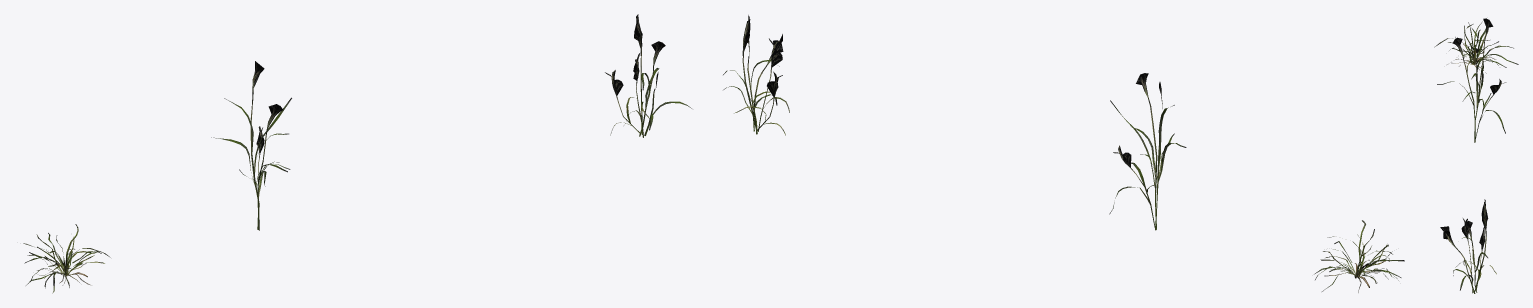
File: river-grass.glb
3 renders of one model, left to right at view 1: azimuth 30°, elevation 25°; view 2: azimuth 150°, elevation 25°; view 3: azimuth 270°, elevation 25°, orthographic. The views are drawn at different scales.
Visible parts, largest first — view 1: grass_medium_01_tall_c_LOD0, grass_medium_01_tall_a_LOD0, grass_medium_01_small_b_LOD0; view 2: grass_medium_01_tall_a_LOD0, grass_medium_01_tall_c_LOD0, grass_medium_01_small_b_LOD0; view 3: grass_medium_01_tall_c_LOD0, grass_medium_01_tall_a_LOD0, grass_medium_01_small_b_LOD0.
Boxes of the visible parts, x1,y1,x2,y2 form: grass_medium_01_tall_c_LOD0: (605, 14, 691, 137); grass_medium_01_tall_a_LOD0: (211, 61, 291, 230); grass_medium_01_small_b_LOD0: (23, 224, 110, 293); grass_medium_01_tall_a_LOD0: (1109, 73, 1186, 230); grass_medium_01_tall_c_LOD0: (723, 15, 789, 135); grass_medium_01_small_b_LOD0: (1314, 220, 1404, 292); grass_medium_01_tall_c_LOD0: (1440, 199, 1496, 293); grass_medium_01_tall_a_LOD0: (1437, 18, 1506, 142); grass_medium_01_small_b_LOD0: (1434, 18, 1518, 73).
Size of the model in its own units: 1.38 by 0.3248 by 0.1899.
Materials: 1 (1 with a texture image).
